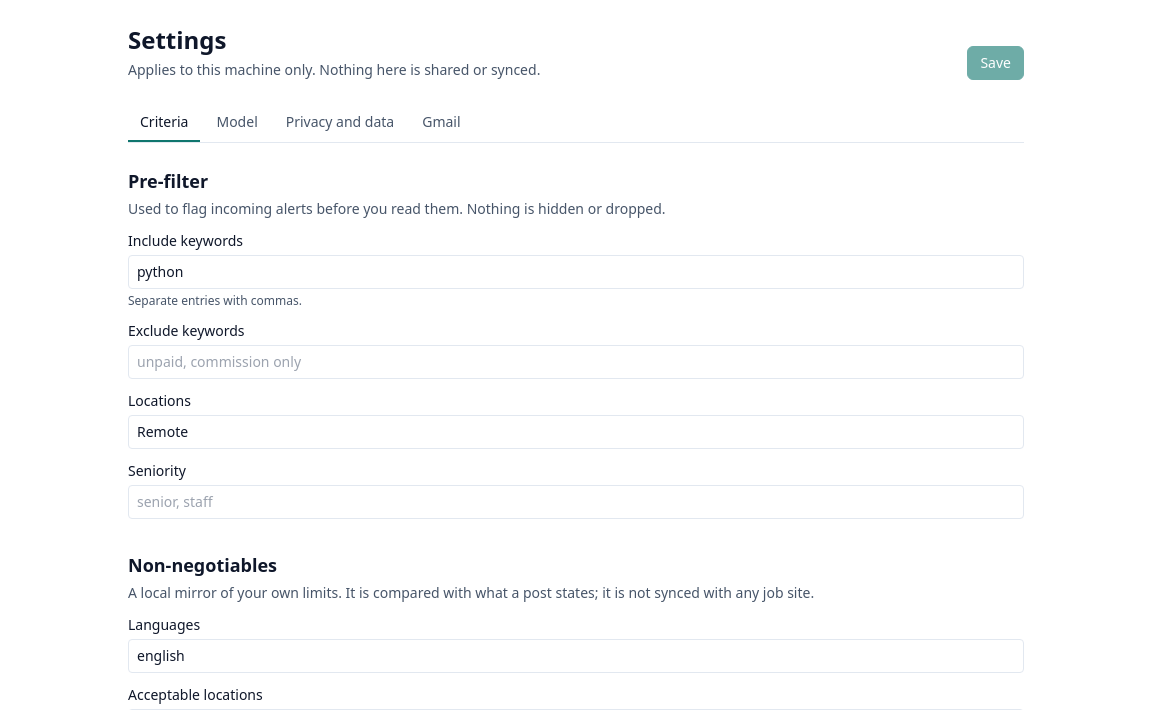
Settings › refuses a base URL that is neither HTTPS nor localhost
The width and height of the screenshot is (1152, 710).
Click the tab "Model": (237, 123) [204,104,270,142]
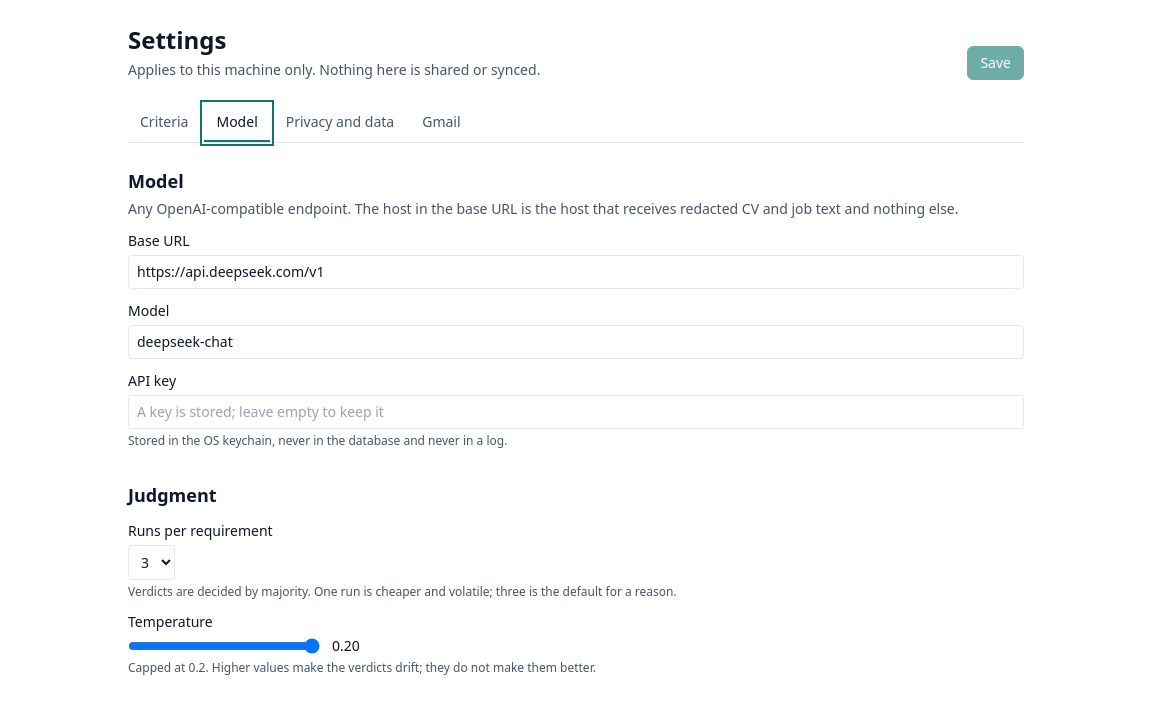
In the field labelled "Base URL": (576, 272) [128,255,1024,289], type "http://api.example.com/v1"
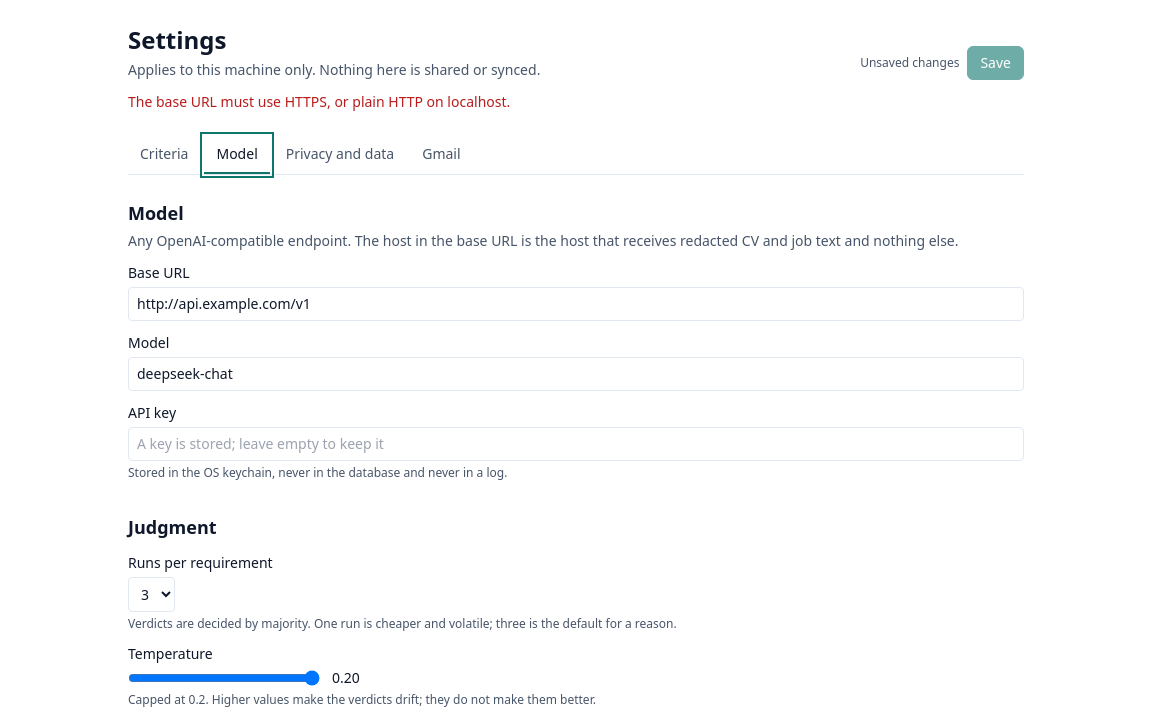
Expected: the button "Save" is disabled, [967,46,1024,80]
Expected: the text "The base URL must use HTTPS, or plain HTTP on localhost." is shown, [128,92,510,111]
